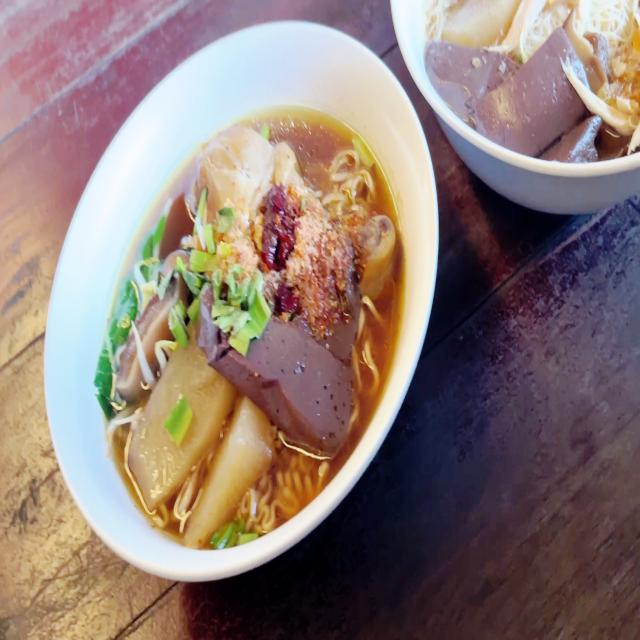boiled_chicken_blood_jelly: (429, 38, 602, 164), (256, 322, 357, 443)
chicken_drumstick: (188, 125, 392, 288)
chicken_shredded: (563, 57, 639, 128)
daikon_radish: (128, 353, 272, 526), (439, 0, 516, 44)
noodle: (77, 100, 408, 562), (405, 0, 640, 191)
